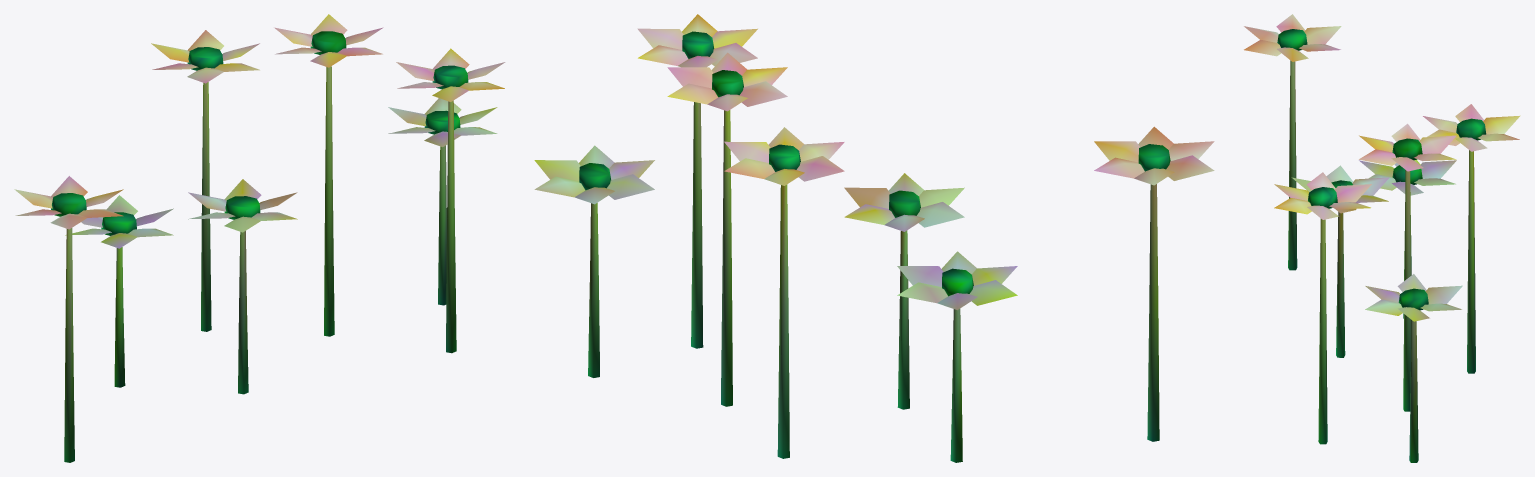
File: Flowers_A.fbx
The picture shows the model from 3 angles, left to right: view 1: azimuth 30°, elevation 25°; view 2: azimuth 150°, elevation 25°; view 3: azimuth 270°, elevation 25°; orthographic projection. The views are drawn at different scales.
Visible parts, largest first — view 1: Flowers_A; view 2: Flowers_A; view 3: Flowers_A.
Boxes of the visible parts, x1,y1,x2,y2 form: Flowers_A: [14, 14, 505, 462]; Flowers_A: [534, 14, 1214, 462]; Flowers_A: [1244, 14, 1520, 462].
Size of the model in its own units: 0.4505 by 0.2321 by 0.2194.
